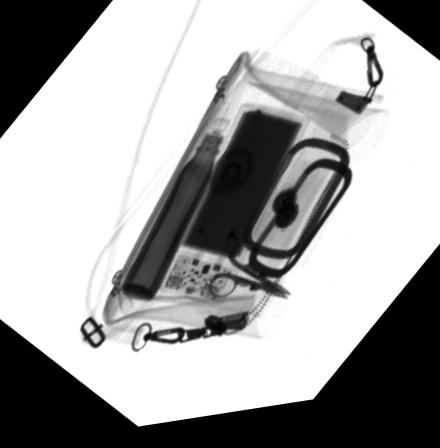Powerbank: (151, 115, 313, 314)
Scissors: (208, 244, 293, 312)
